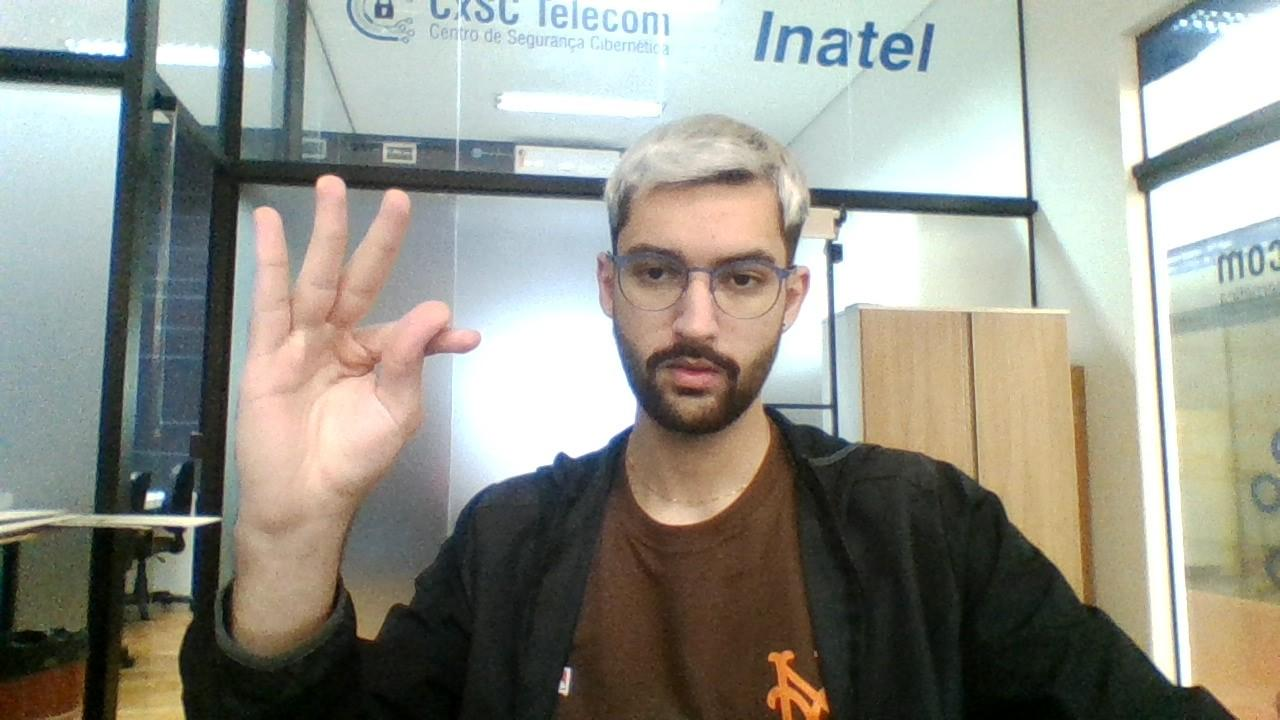T: (238, 158, 488, 508)
